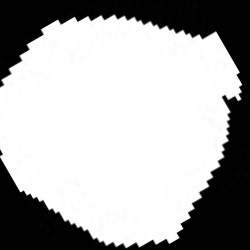spot: (2, 15, 242, 246)
